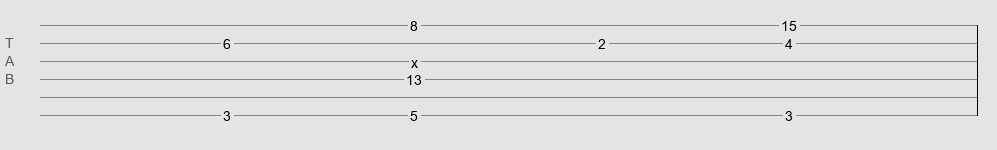13: (406, 72, 422, 82)
15: (781, 18, 797, 28)
2: (598, 36, 606, 46)
3: (223, 108, 231, 118), (785, 108, 793, 118)
4: (785, 36, 793, 46)
5: (410, 108, 418, 118)
6: (223, 36, 231, 46)
8: (410, 18, 418, 28)
x: (411, 55, 418, 63)
